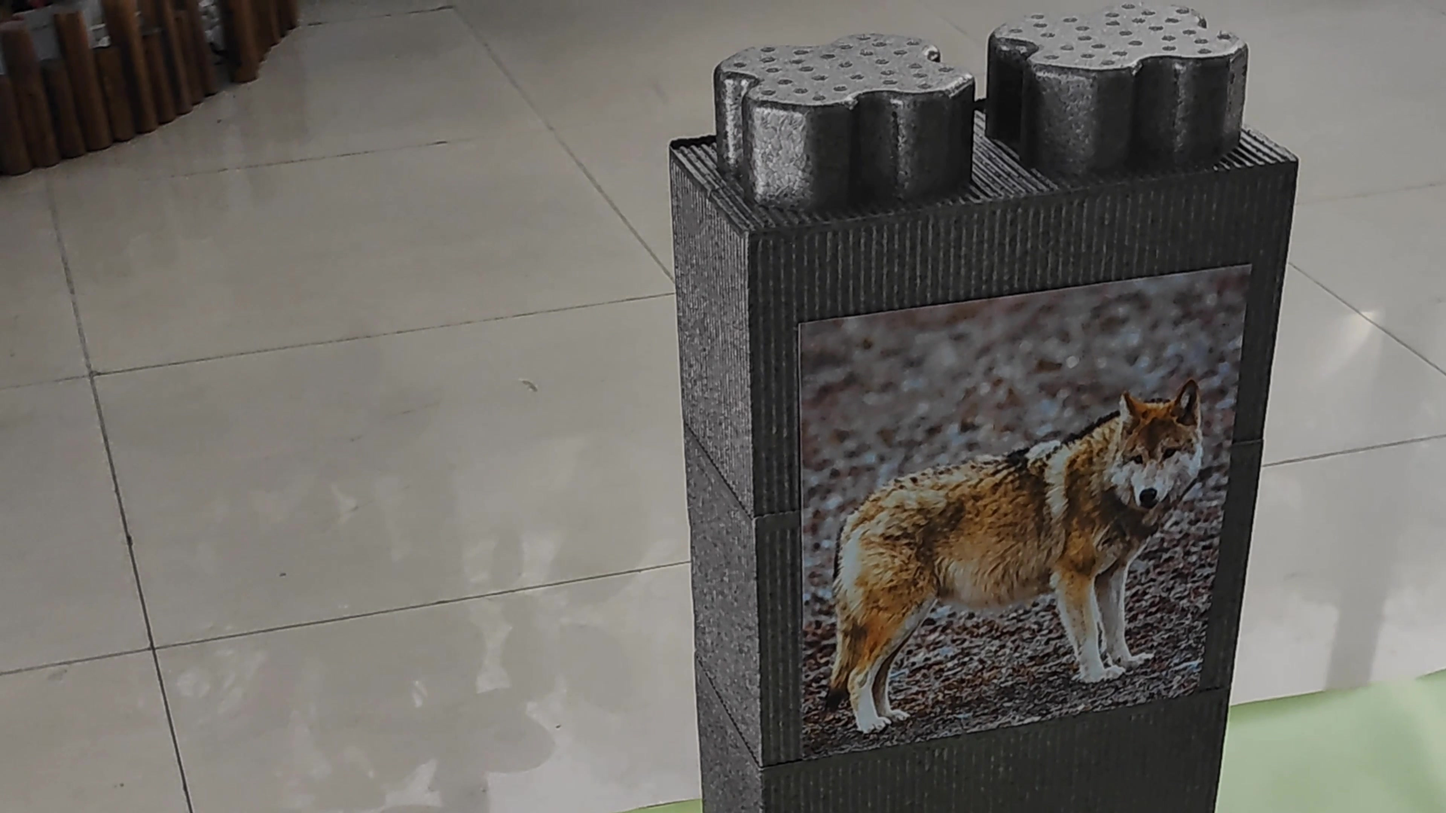wolf: (808, 361, 1210, 746)
